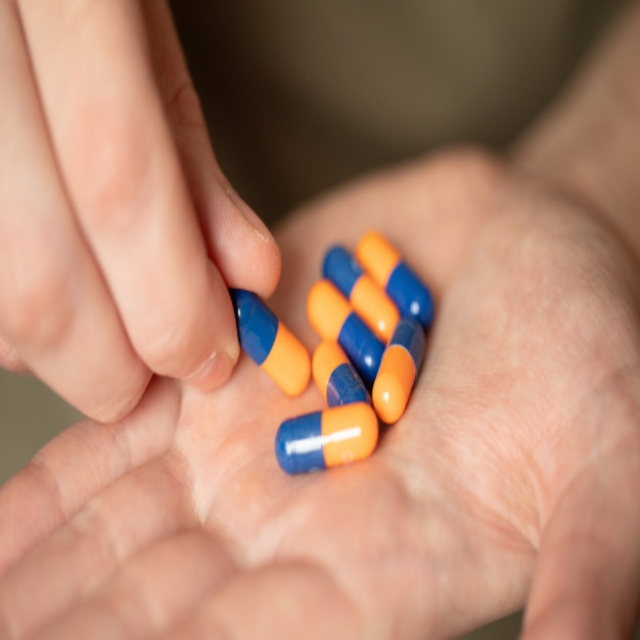pill: (223, 171, 303, 239), (317, 145, 391, 208), (270, 243, 371, 288), (347, 137, 426, 194), (300, 168, 375, 228), (302, 202, 367, 259), (361, 190, 417, 256)
